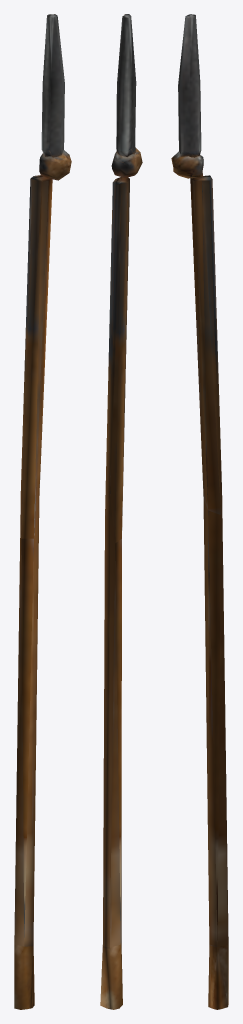
Rendered from mm8_m416_bolt.glb.
3 views of the same model, side by side, from view 1: azimuth 90°, elevation 25°; view 2: azimuth 150°, elevation 25°; view 3: azimuth 270°, elevation 25° (orthographic).
Parts seen in each view (by area): view 1: Bolt; view 2: Bolt; view 3: Bolt.
Part boxes in pixels (box(x1,y1,x2,y2)): Bolt: box(14, 14, 71, 1009); Bolt: box(100, 14, 142, 1009); Bolt: box(171, 14, 228, 1009).
Size of the model in its own units: 0.00814 by 0.3241 by 0.017.
Materials: 1 (1 with a texture image).
